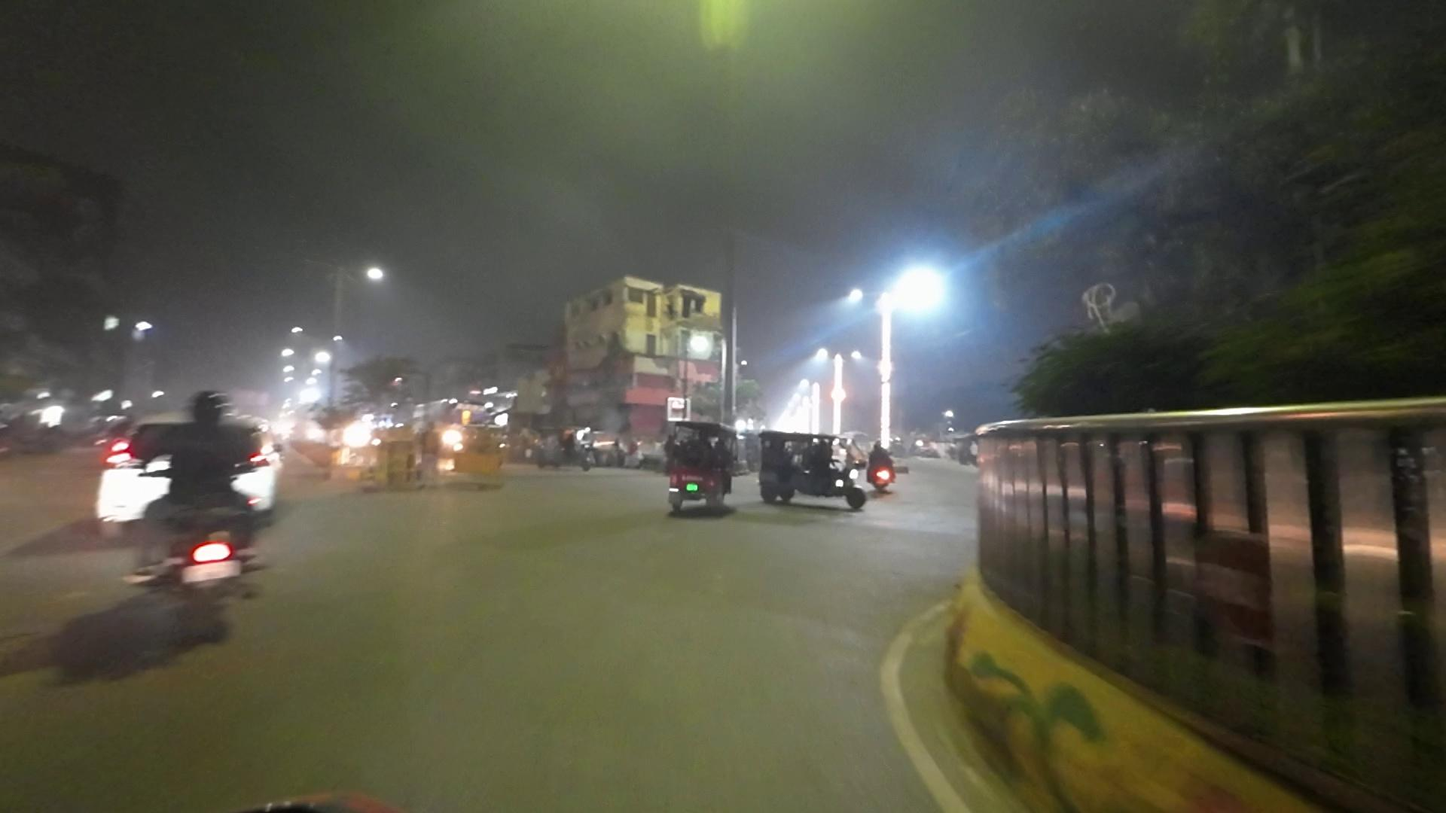streetlight: (302, 254, 337, 269)
